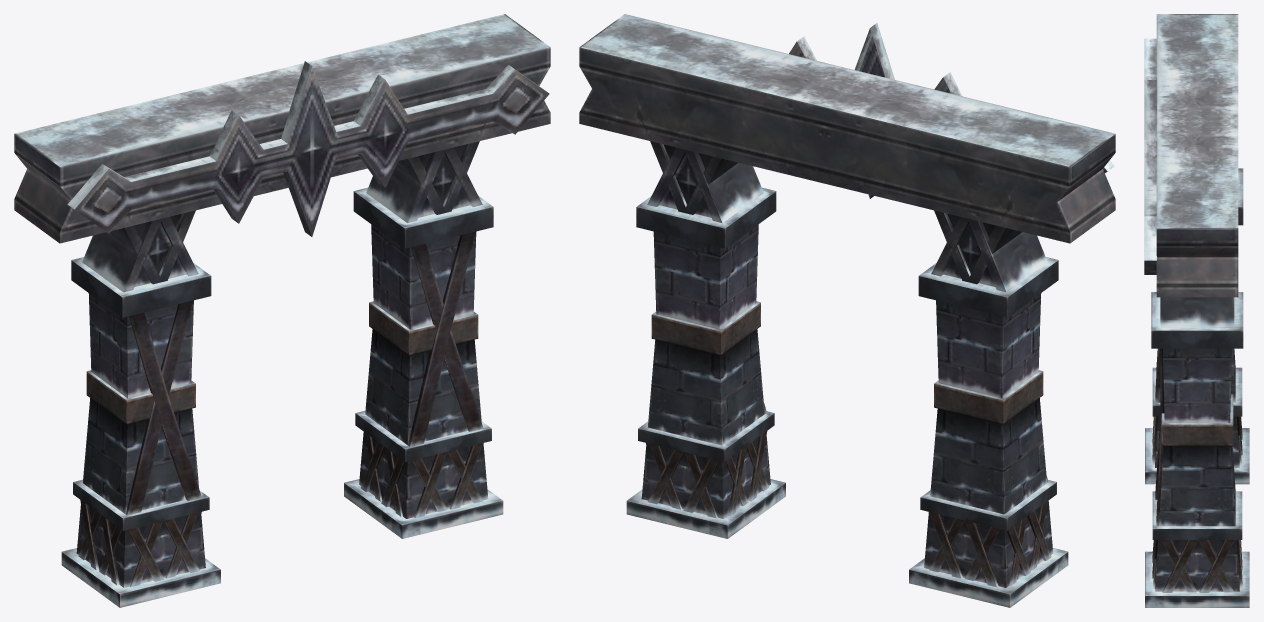
The model's file is yw_anxizhidi_shimen01.FBX.
The picture shows the model from 3 angles, left to right: view 1: azimuth 30°, elevation 25°; view 2: azimuth 150°, elevation 25°; view 3: azimuth 270°, elevation 25°; orthographic projection. The views are drawn at different scales.
Parts seen in each view (by area): view 1: yw_anxizhidi_shimen01; view 2: yw_anxizhidi_shimen01; view 3: yw_anxizhidi_shimen01.
Part boxes in pixels (x1,y1,x2,y2): yw_anxizhidi_shimen01: [14, 14, 550, 607]; yw_anxizhidi_shimen01: [579, 14, 1115, 607]; yw_anxizhidi_shimen01: [1144, 14, 1249, 607].
Size of the model in its own units: 608 by 586 by 126.
